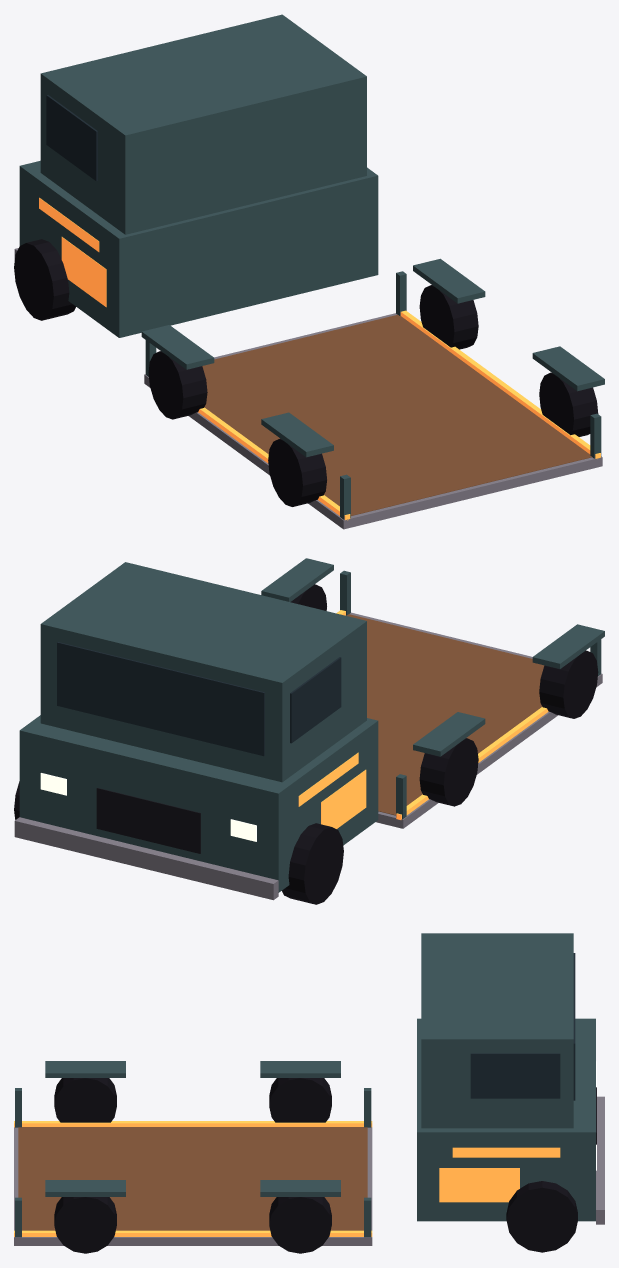
File: SM_PRP_Caminhao.fbx
3 renders of one model, top to bottom at view 1: azimuth 30°, elevation 25°; view 2: azimuth 150°, elevation 25°; view 3: azimuth 270°, elevation 25°, orthographic. The views are drawn at different scales.
Parts seen in each view (by area): view 1: SM_PRP_Caminhao; view 2: SM_PRP_Caminhao; view 3: SM_PRP_Caminhao.
Boxes of the visible parts, x1,y1,x2,y2 form: SM_PRP_Caminhao: (14, 14, 604, 529); SM_PRP_Caminhao: (14, 558, 604, 904); SM_PRP_Caminhao: (14, 933, 604, 1253).
Size of the model in its own units: 3.46 by 2.5 by 6.6.
